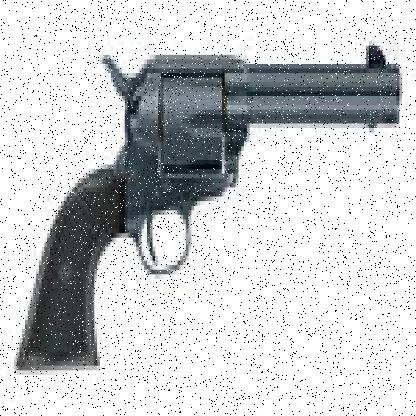pistol: (14, 41, 399, 370)
